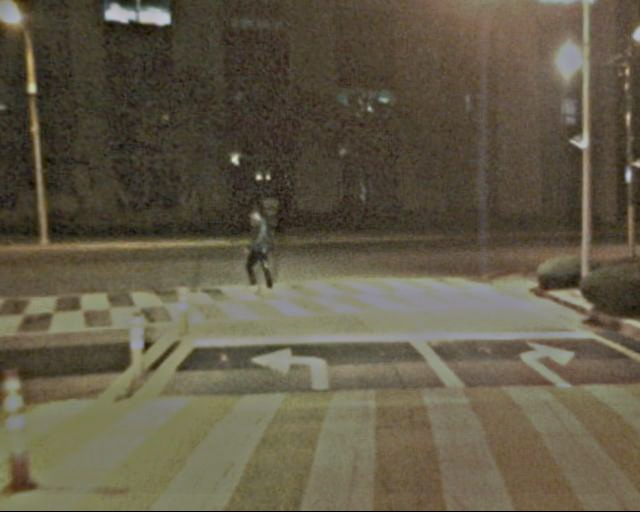person: (238, 205, 277, 300)
